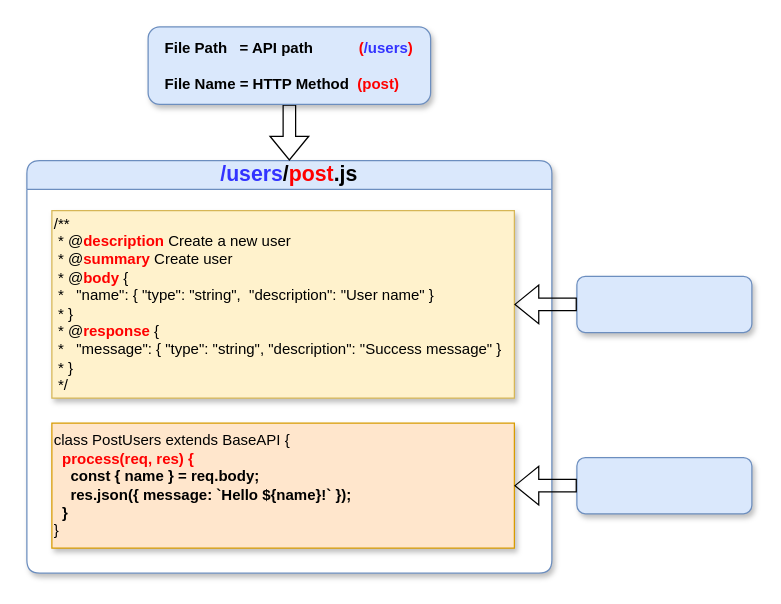
Image size: 781x604. Some labels were removed from this diagram. Here are the shapes that lost their labels. From the top down, the centre of each, then its label:
At point (665, 305): "Annotations For MCP & OpenAPI".
At point (665, 486): "Process Function".
